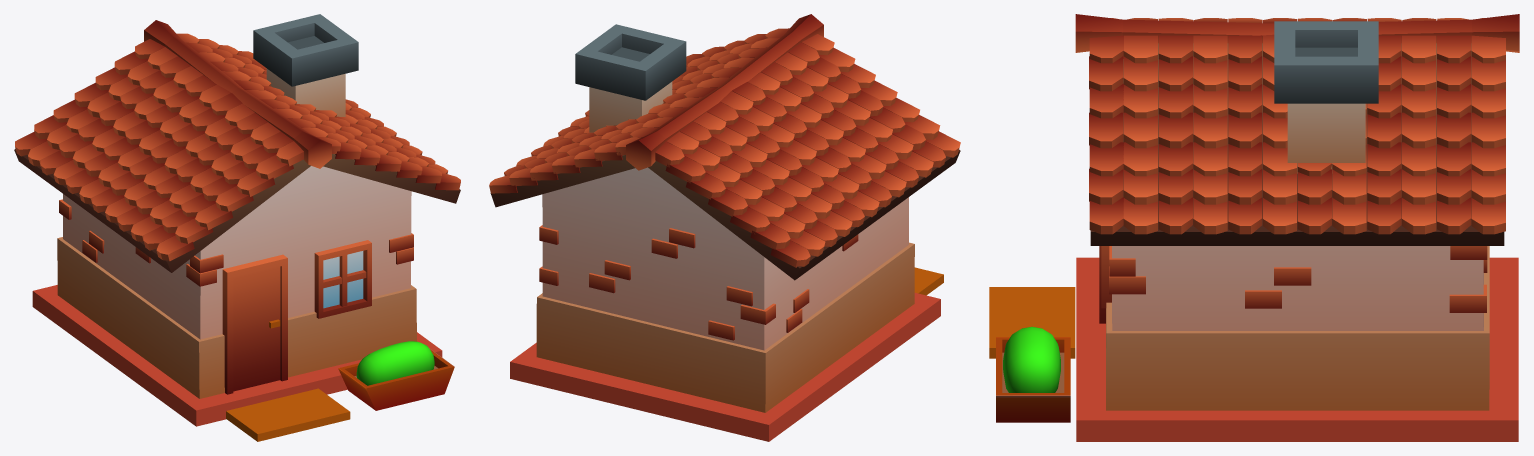
The model's file is house.glb.
The picture shows the model from 3 angles, left to right: view 1: azimuth 30°, elevation 25°; view 2: azimuth 150°, elevation 25°; view 3: azimuth 270°, elevation 25°; orthographic projection. The views are drawn at different scales.
Parts seen in each view (by area): view 1: Cube.022; view 2: Cube.022; view 3: Cube.022.
Boxes of the visible parts, <box> form: Cube.022: <box>14,14,460,441</box>; Cube.022: <box>489,14,960,441</box>; Cube.022: <box>989,14,1519,441</box>.
Size of the model in its own units: 2.53 by 2.2 by 2.85.
1 material, 1 textured.
